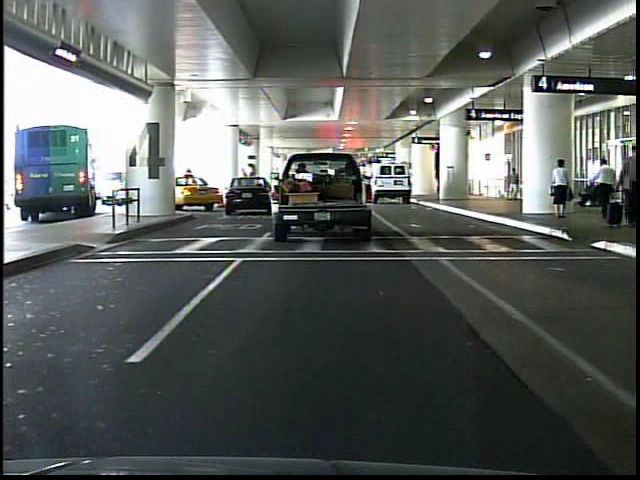person: (613, 145, 637, 230), (548, 154, 574, 224), (592, 154, 616, 220), (505, 163, 522, 206)
